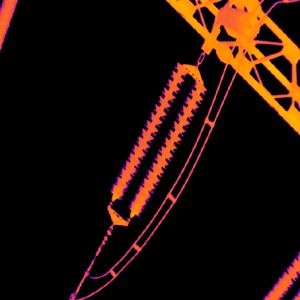insulator: (109, 62, 207, 218)
